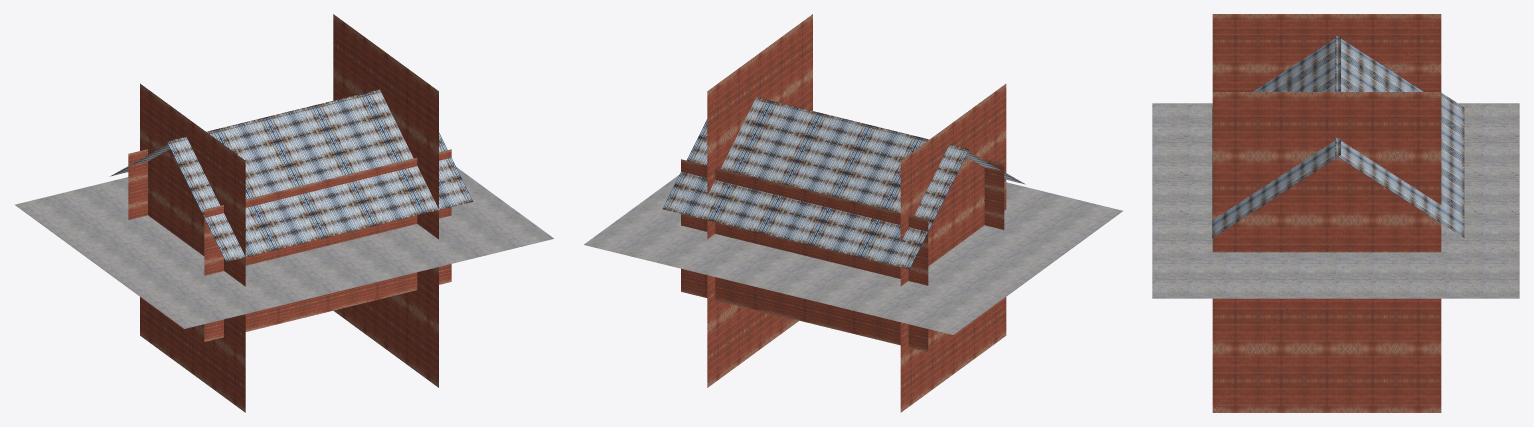
The model's file is hope.gltf.
The picture shows the model from 3 angles, left to right: view 1: azimuth 30°, elevation 25°; view 2: azimuth 150°, elevation 25°; view 3: azimuth 270°, elevation 25°; orthographic projection. The views are drawn at different scales.
Visible parts, largest first — view 1: Floor, Roof.01, Floor.001, Floor.002, Floor.003, Floor.004, Roof.02; view 2: Floor, Roof.02, Floor.001, Floor.002, Floor.004, Floor.003, Roof.01; view 3: Floor.002, Floor, Floor.001, Roof.02, Roof.01.
Boxes of the visible parts, box(x1,y1,x2,y2) form: Floor: box(15, 167, 553, 328); Roof.01: box(167, 89, 473, 261); Floor.001: box(140, 83, 245, 412); Floor.002: box(333, 14, 438, 387); Floor.003: box(204, 149, 451, 341); Floor.004: box(128, 149, 147, 219); Roof.02: box(110, 91, 381, 176); Floor: box(584, 174, 1122, 334); Roof.02: box(663, 97, 968, 269); Floor.001: box(900, 84, 1006, 412); Floor.002: box(707, 14, 812, 387); Floor.004: box(681, 159, 928, 351); Floor.003: box(984, 159, 1004, 229); Roof.01: box(754, 99, 1025, 184); Floor.002: box(1212, 92, 1441, 412); Floor: box(1152, 103, 1519, 298); Floor.001: box(1212, 14, 1441, 91); Roof.02: box(1335, 35, 1464, 237); Roof.01: box(1212, 35, 1340, 237).
Bounding box in the file's own units: 67.62 × 51.78 × 53.73.
Materials: 11 (11 with a texture image).
